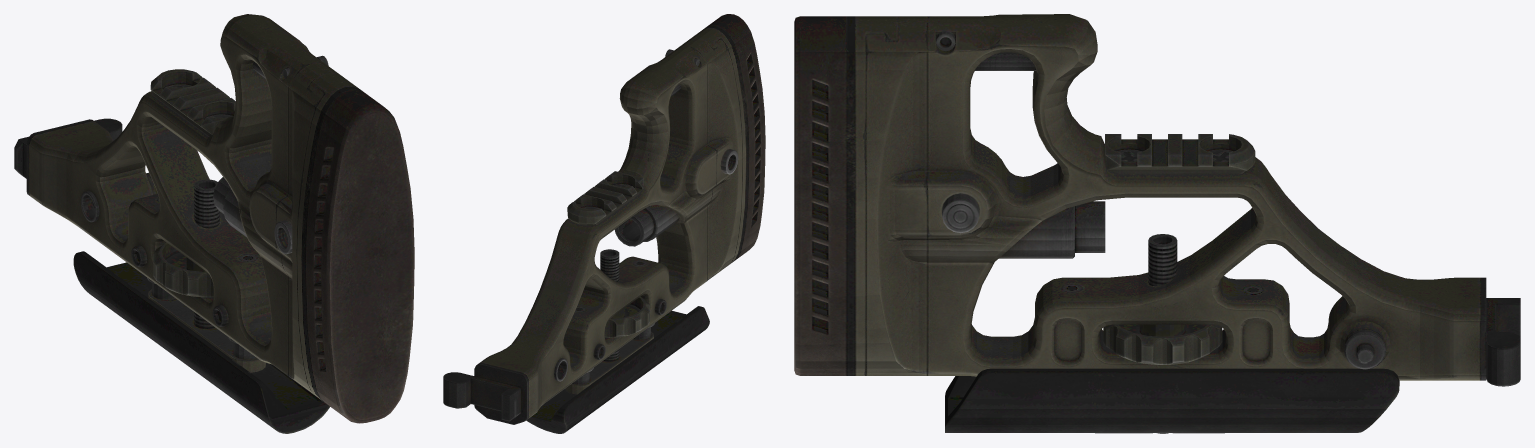
3 views of the same model, side by side, from view 1: azimuth 30°, elevation 25°; view 2: azimuth 150°, elevation 25°; view 3: azimuth 270°, elevation 25° (orthographic). The views are drawn at different scales.
Visible parts, largest first — view 1: TW_624c29ce09cd027dff2f8cd7_PZ_Import; view 2: TW_624c29ce09cd027dff2f8cd7_PZ_Import; view 3: TW_624c29ce09cd027dff2f8cd7_PZ_Import.
Boxes of the visible parts, x1,y1,x2,y2 form: TW_624c29ce09cd027dff2f8cd7_PZ_Import: [14, 14, 414, 433]; TW_624c29ce09cd027dff2f8cd7_PZ_Import: [443, 14, 765, 433]; TW_624c29ce09cd027dff2f8cd7_PZ_Import: [794, 14, 1520, 433].
Size of the model in its own units: 0.0276 by 0.1379 by 0.0868.
Materials: 1 (1 with a texture image).
